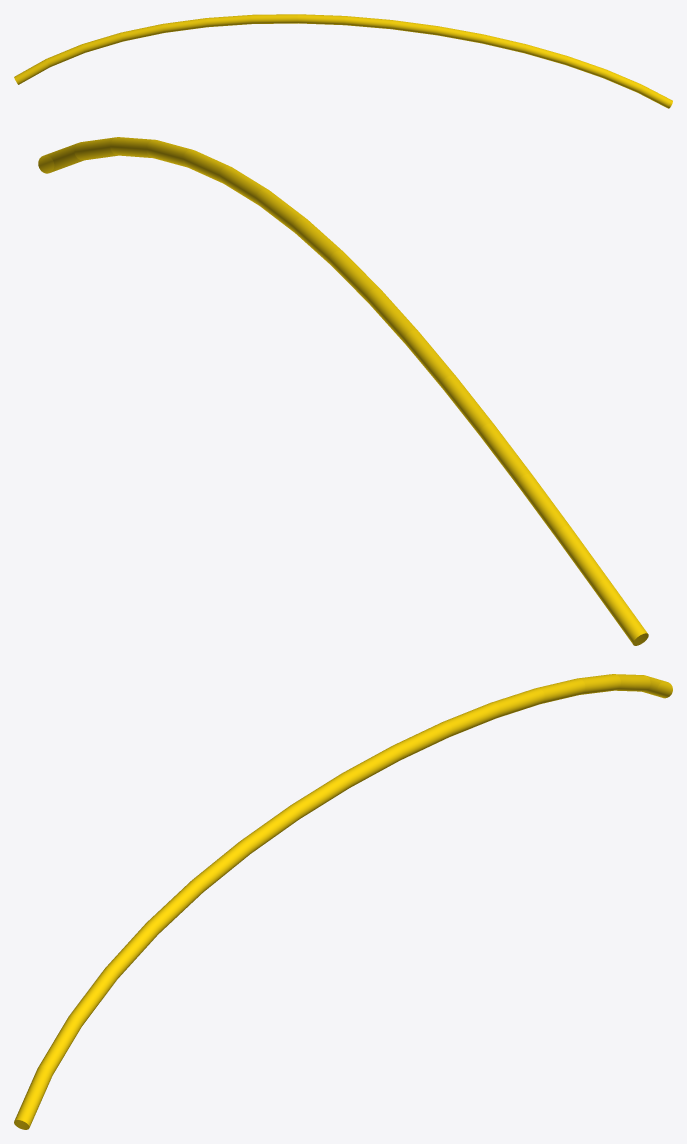
The model's file is Event_420094457_track_90.fbx.
3 views of the same model, one above another, from view 1: azimuth 30°, elevation 25°; view 2: azimuth 150°, elevation 25°; view 3: azimuth 270°, elevation 25° (orthographic). The views are drawn at different scales.
Parts seen in each view (by area): view 1: Model; view 2: Model; view 3: Model.
Part boxes in pixels (x1,y1,x2,y2): Model: (14,14,672,108); Model: (38,137,648,645); Model: (14,674,672,1129).
Size of the model in its own units: 2.39 by 0.3969 by 1.57.
